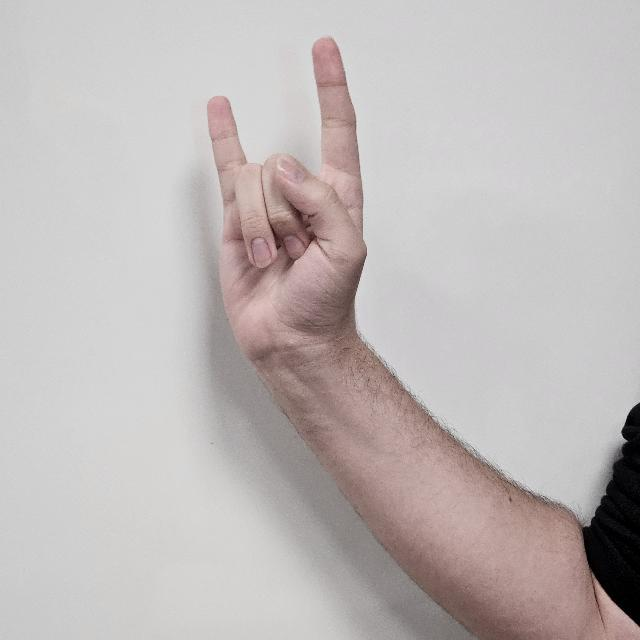L: (202, 37, 394, 356)
